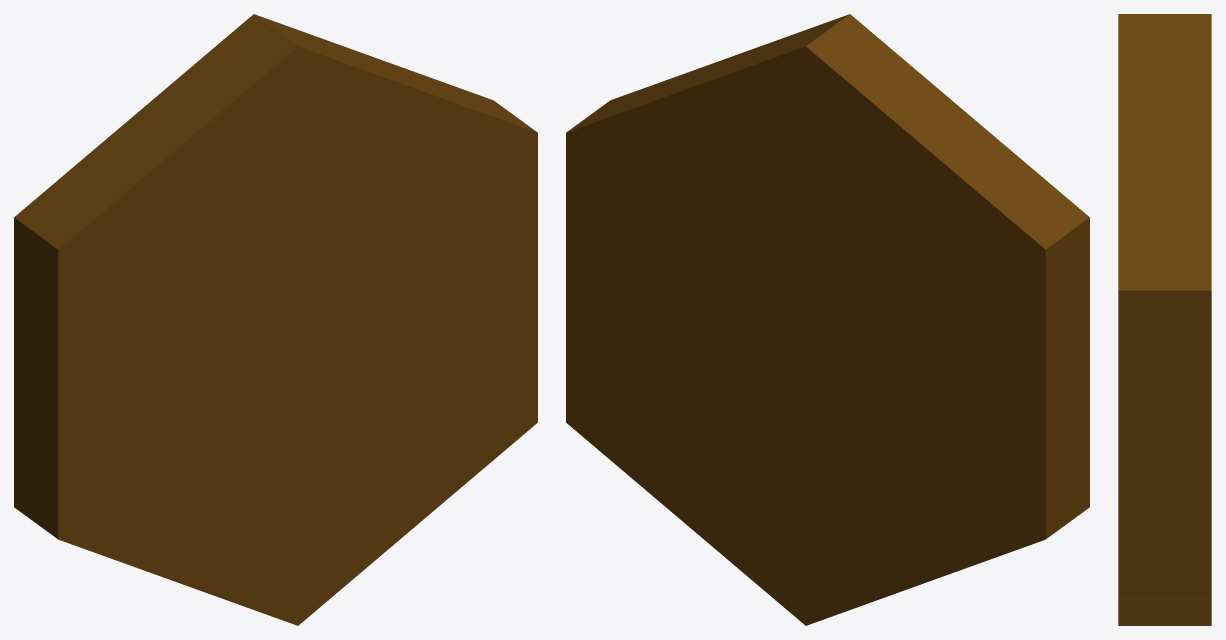
File: JarLid.obj
3 renders of one model, left to right at view 1: azimuth 30°, elevation 25°; view 2: azimuth 150°, elevation 25°; view 3: azimuth 270°, elevation 25°, orthographic. The views are drawn at different scales.
Visible parts, largest first — view 1: glass.001; view 2: glass.001; view 3: glass.001.
Part boxes in pixels (x1,y1,x2,y2): glass.001: (14,14,537,625); glass.001: (566,14,1089,625); glass.001: (1118,14,1211,625).
Size of the model in its own units: 0.1317 by 0.1521 by 0.021.
